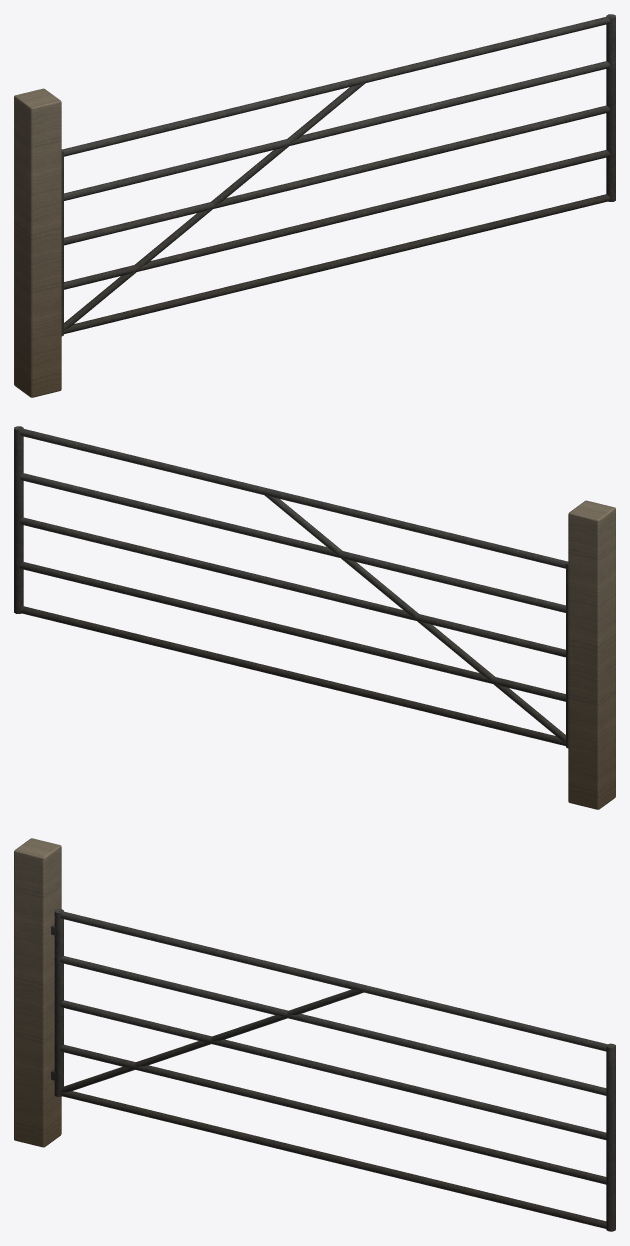
Rendered from prop_gate.glb.
The picture shows the model from 3 angles, top to bottom: view 1: azimuth 30°, elevation 25°; view 2: azimuth 150°, elevation 25°; view 3: azimuth 330°, elevation 25°; orthographic projection.
Visible parts, largest first — view 1: Bars, Post; view 2: Bars, Post; view 3: Bars, Post.
Part boxes in pixels (left/top/right/bottom): Bars: left=61, top=14, right=615, bottom=336; Post: left=14, top=88, right=61, bottom=397; Bars: left=14, top=426, right=568, bottom=748; Post: left=568, top=500, right=615, bottom=809; Bars: left=51, top=909, right=615, bottom=1231; Post: left=14, top=838, right=61, bottom=1147.
Bounding box in the file's own units: 3.85 × 1.8 × 0.2.
2 materials, 2 textured.
